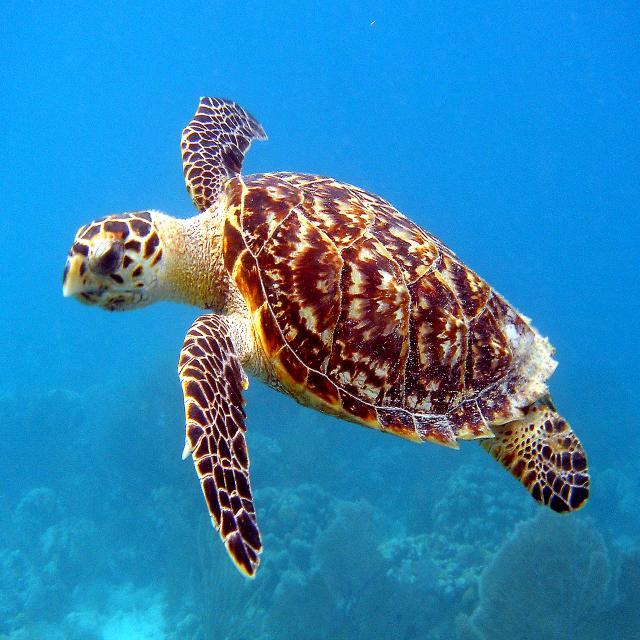Sea turtle: (59, 88, 622, 579)
